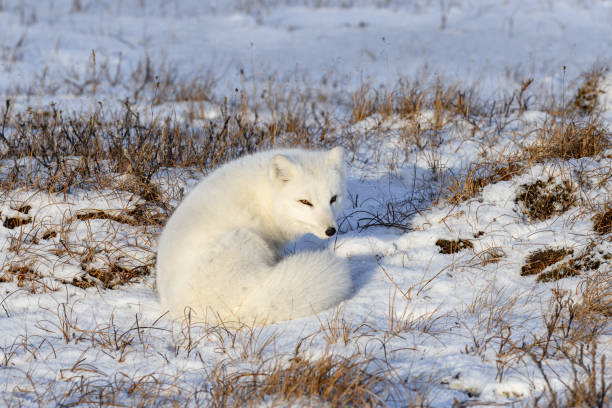arcticfox: (284, 172, 349, 249)
